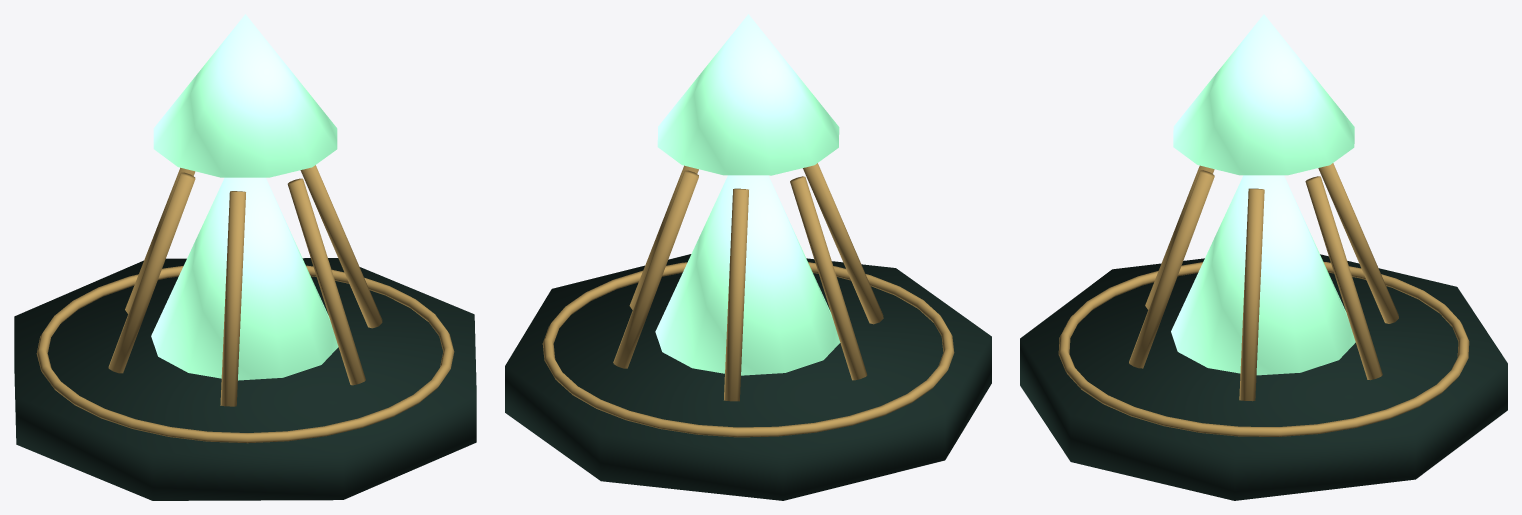
The picture shows the model from 3 angles, left to right: view 1: azimuth 30°, elevation 25°; view 2: azimuth 150°, elevation 25°; view 3: azimuth 270°, elevation 25°; orthographic projection.
Parts seen in each view (by area): view 1: Hexagonal plinth, Lower crystal, Upper crystal, Inlaid rim, Brass setting.004, Brass setting.005, Brass setting.003, Brass setting, Brass setting.002; view 2: Hexagonal plinth, Lower crystal, Upper crystal, Inlaid rim, Brass setting.002, Brass setting.003, Brass setting.001, Brass setting.004, Brass setting; view 3: Hexagonal plinth, Lower crystal, Upper crystal, Inlaid rim, Brass setting, Brass setting.001, Brass setting.005, Brass setting.002, Brass setting.004.
Part boxes in pixels (box(x1,y1,x2,y2)): Hexagonal plinth: box(14, 258, 476, 500); Lower crystal: box(151, 177, 338, 380); Upper crystal: box(153, 14, 337, 177); Inlaid rim: box(36, 265, 454, 443); Brass setting.004: box(220, 191, 245, 406); Brass setting.005: box(287, 178, 365, 385); Brass setting.003: box(108, 172, 195, 373); Brass setting: box(300, 165, 382, 328); Brass setting.002: box(125, 167, 195, 313); Hexagonal plinth: box(505, 254, 991, 500); Lower crystal: box(655, 175, 840, 375); Upper crystal: box(657, 14, 839, 175); Inlaid rim: box(542, 262, 954, 437); Brass setting.002: box(724, 188, 748, 401); Brass setting.003: box(790, 176, 867, 380); Brass setting.001: box(613, 170, 698, 368); Brass setting.004: box(803, 163, 883, 324); Brass setting: box(629, 165, 698, 309); Hexagonal plinth: box(1020, 254, 1507, 500); Lower crystal: box(1171, 175, 1355, 375); Upper crystal: box(1173, 14, 1354, 175); Inlaid rim: box(1058, 261, 1469, 436); Brass setting: box(1239, 188, 1264, 401); Brass setting.001: box(1305, 176, 1382, 380); Brass setting.005: box(1129, 170, 1214, 368); Brass setting.002: box(1318, 163, 1398, 323); Brass setting.004: box(1145, 165, 1214, 309).
Bounding box in the file's own units: 1.51 × 1.31 × 1.51.
